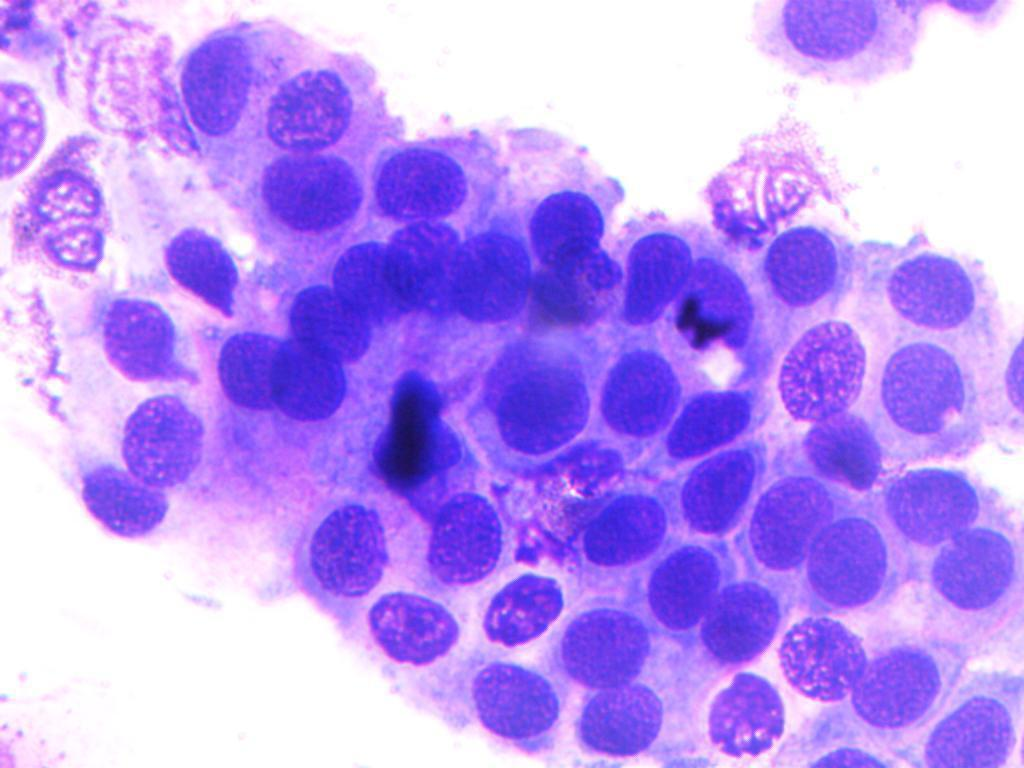artifact: (700, 114, 843, 238), (369, 364, 468, 493), (673, 290, 729, 352)
epithelial: (747, 0, 920, 91), (757, 306, 872, 429), (236, 149, 371, 243), (78, 293, 206, 391), (878, 226, 986, 340), (874, 340, 982, 454), (175, 9, 261, 136), (900, 527, 1023, 615), (678, 670, 801, 758), (23, 167, 116, 272), (488, 364, 590, 458), (751, 466, 838, 574), (419, 483, 507, 587), (363, 582, 467, 670), (112, 390, 207, 486), (263, 59, 362, 151), (456, 660, 564, 743), (155, 226, 249, 319), (851, 634, 943, 729), (441, 230, 531, 326), (266, 336, 354, 433), (210, 318, 293, 420), (471, 567, 568, 654), (367, 146, 477, 222), (571, 683, 669, 767), (678, 438, 757, 542), (751, 219, 840, 311), (591, 344, 680, 436), (284, 278, 381, 362), (920, 689, 1022, 768), (884, 463, 987, 541), (798, 407, 891, 493), (778, 611, 868, 699), (311, 495, 384, 601), (699, 577, 784, 668), (802, 516, 884, 610), (523, 191, 608, 279), (327, 241, 420, 320), (579, 481, 663, 567), (628, 227, 693, 336), (79, 466, 173, 540), (559, 611, 654, 684), (662, 389, 754, 461), (646, 543, 723, 628), (0, 72, 48, 180)
